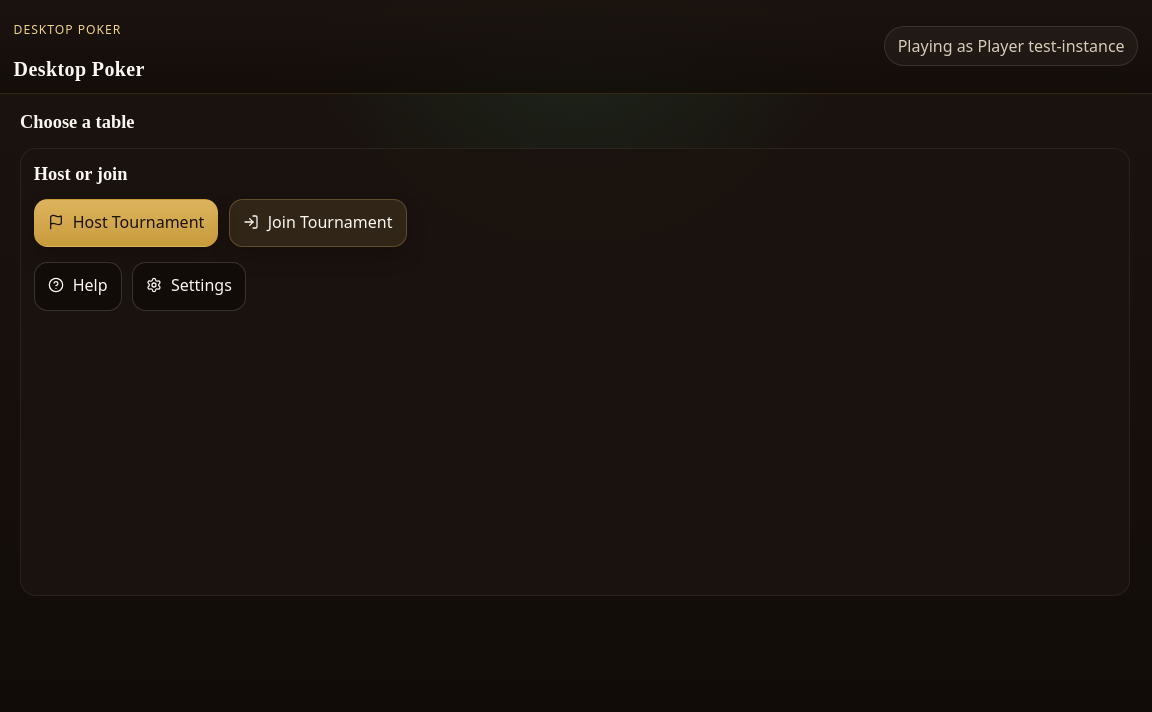
AppShell integration (host and lobby) › shows NPC add profile error inline without navigating away from setup
The image size is (1152, 712).
Click the link "Host Tournament" at (126, 223), box [34,198,218,247]
(page scrolled)
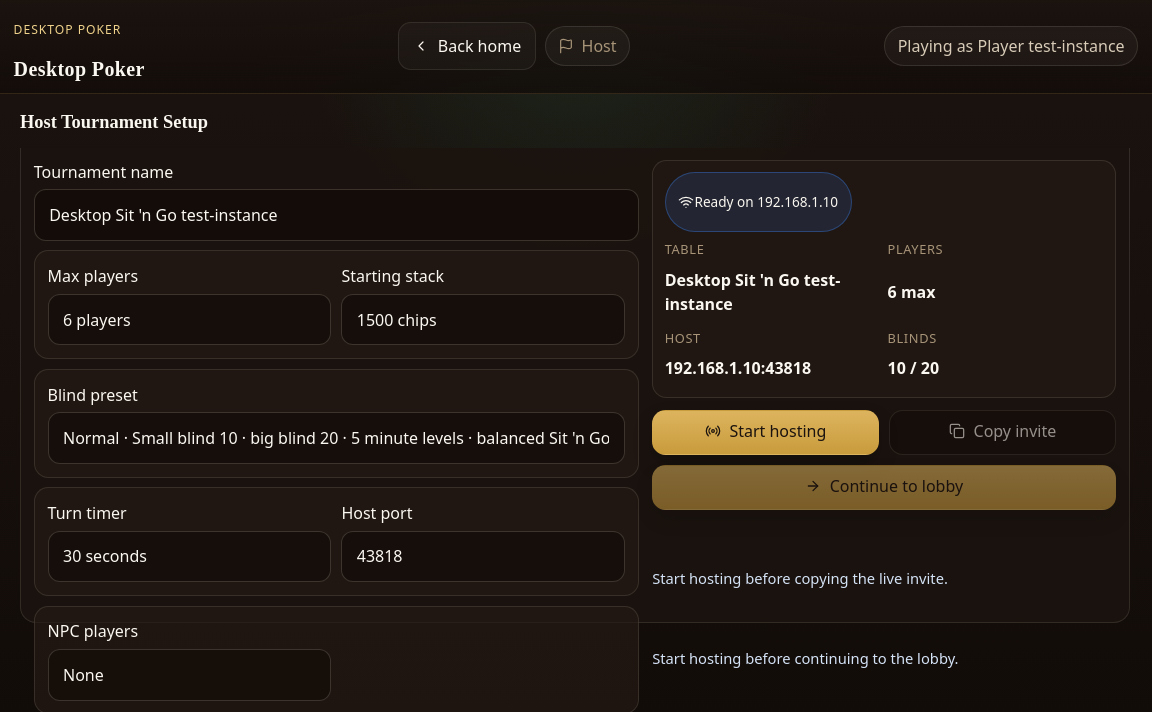
Now the heading "Host Tournament Setup" is shown, box [20,109,208,136]
Note: Request 1 NPC so addNpcPlayers is called.
Select "1 bot" in the dropdown labelled "NPC players" at (189, 675), box [48,649,331,701]
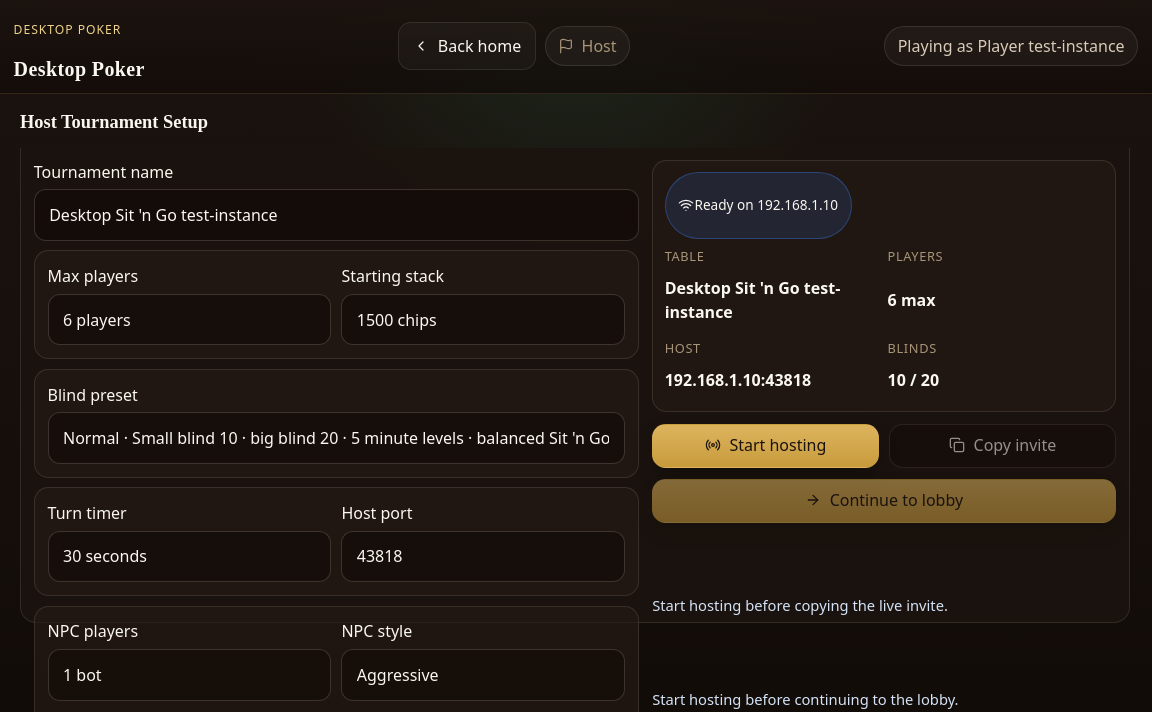
Click the button "Start hosting" at (766, 446), box [652,424,879,468]
(page scrolled)
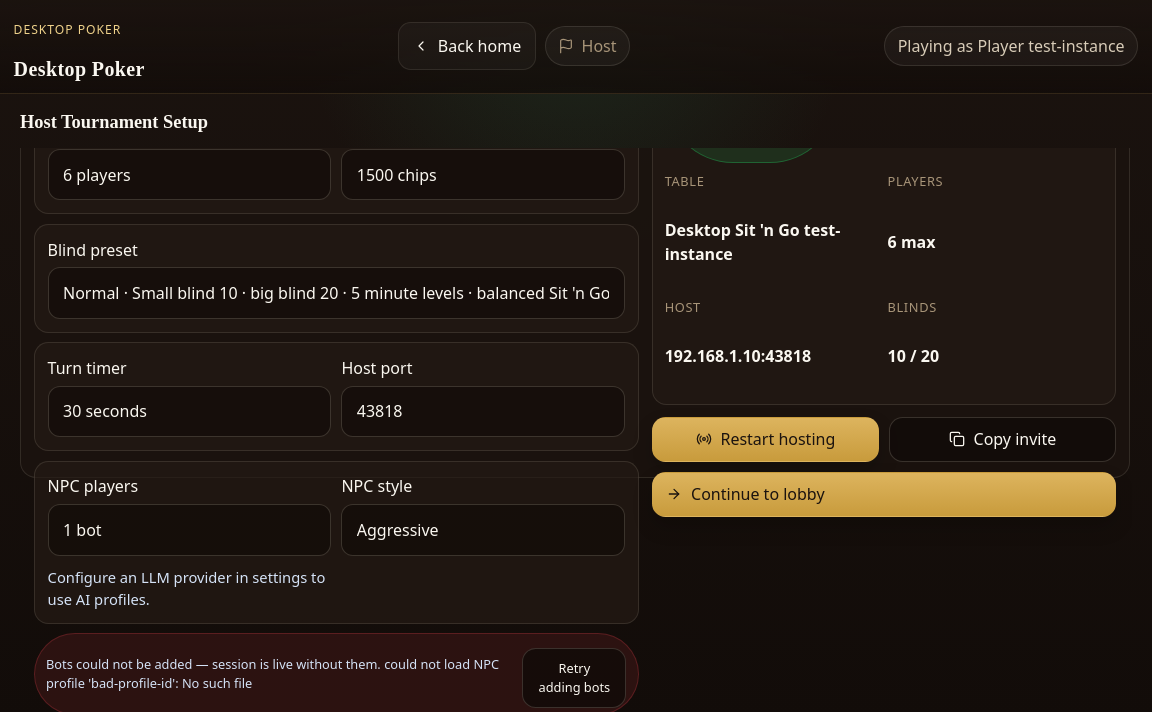
Now the text "could not load NPC profile" is shown, box [46,655,499,692]
